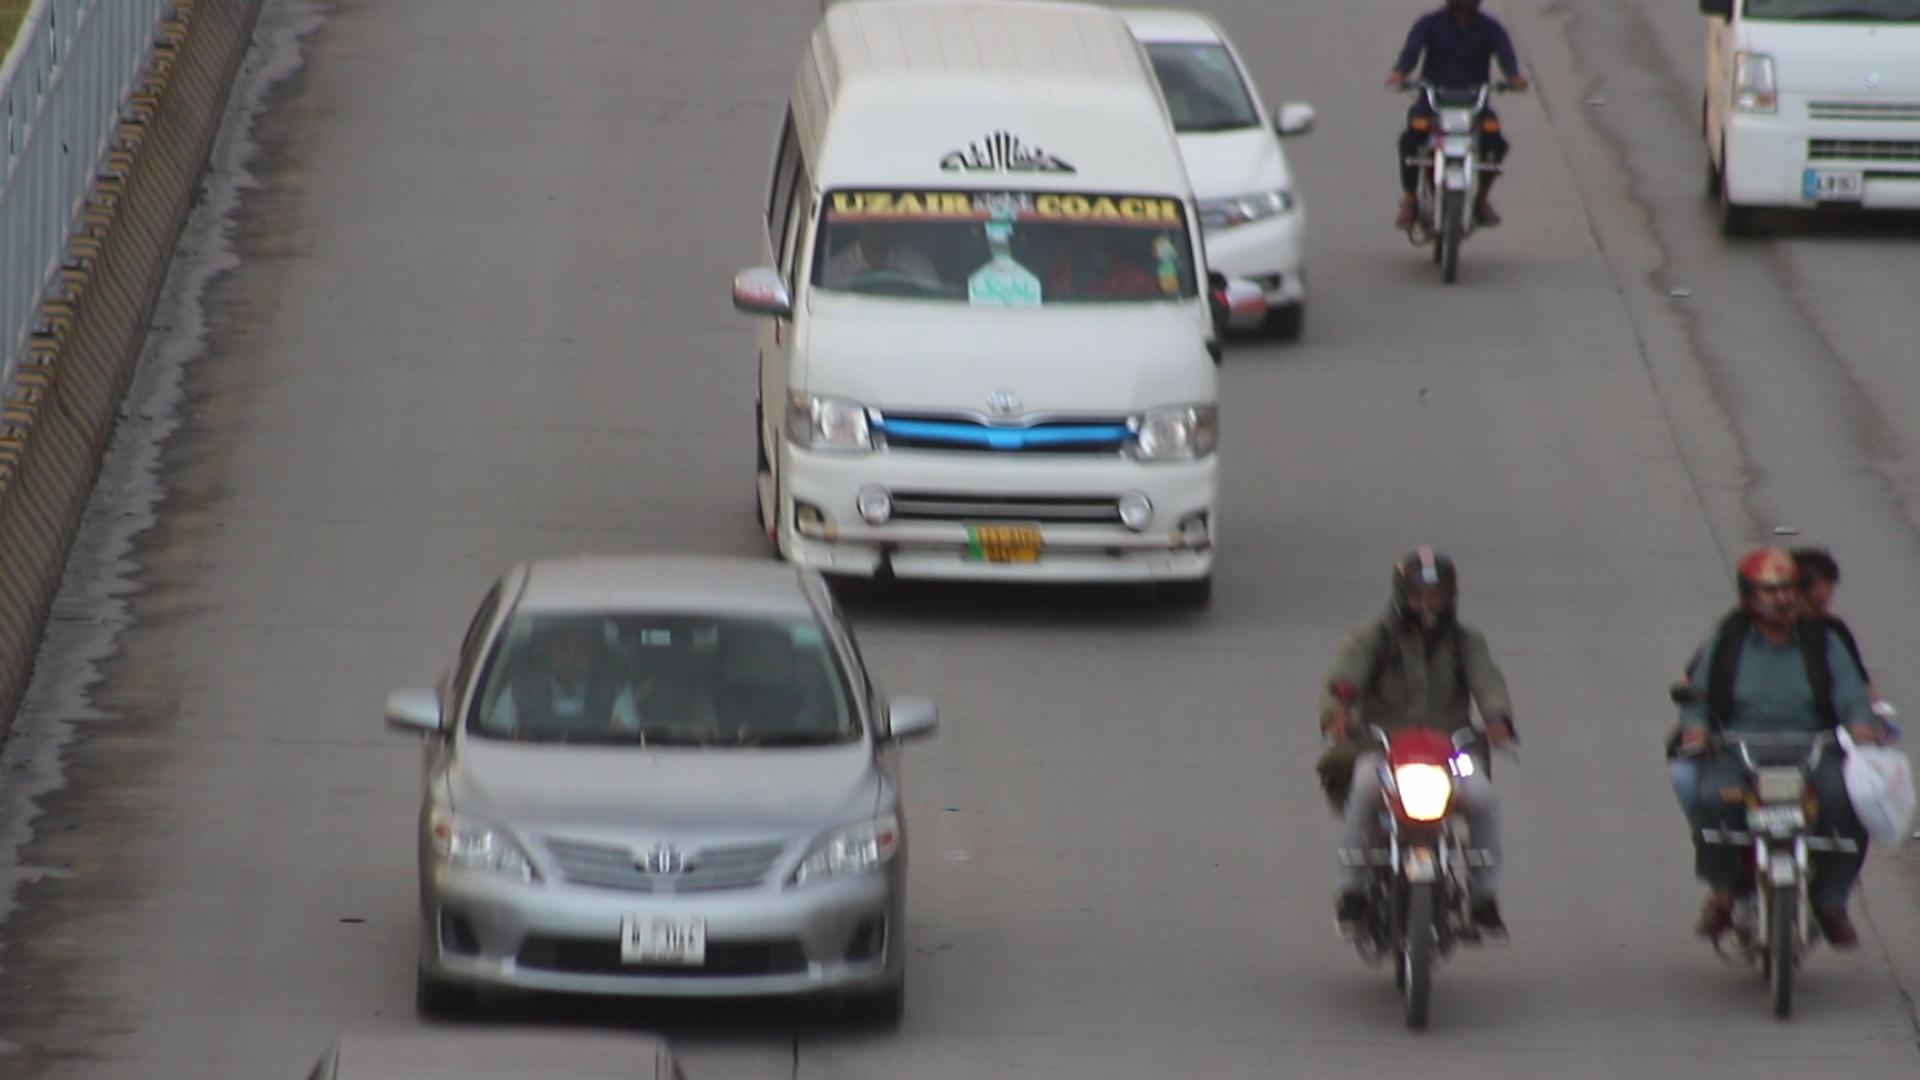windshield: (454, 589, 868, 757), (800, 164, 1224, 320)
